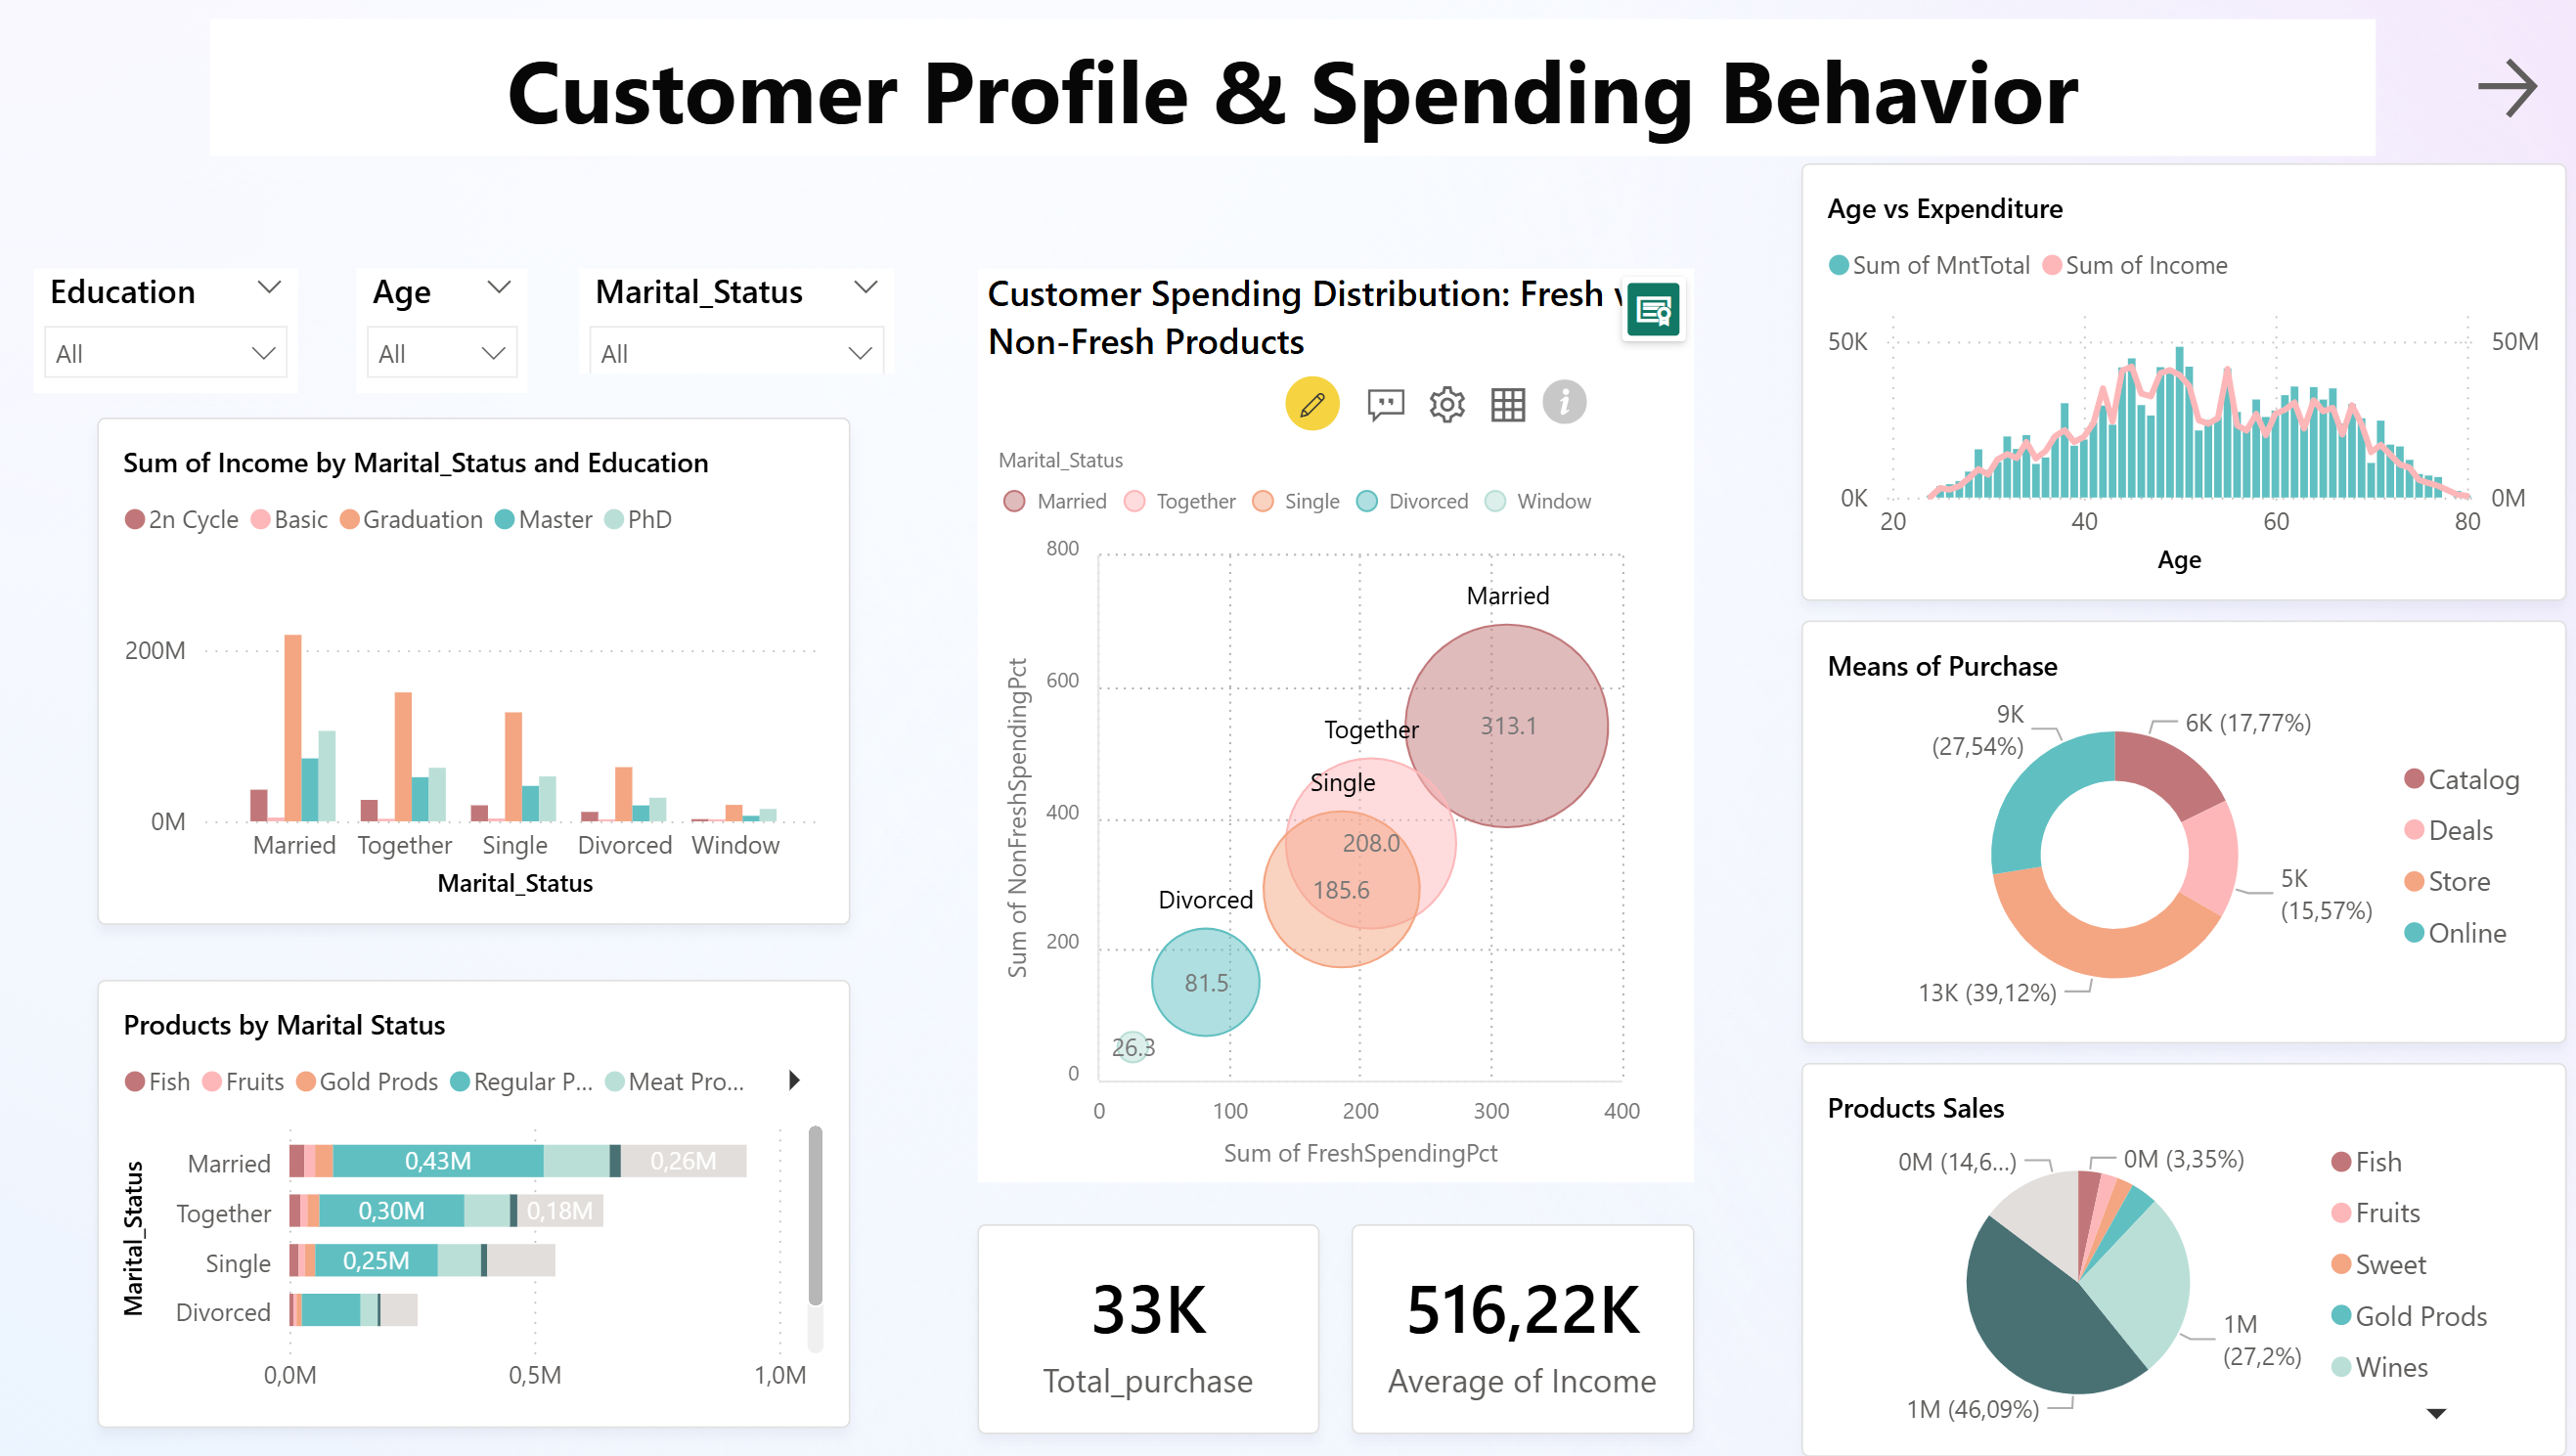

Layout of this report page (visuals, bound fields, positions):
{"tool":"powerbi","page":{"name":"Page 1","canvas":[1280,720],"ordinal":0},"visuals":[{"type":"textbox","box":[105,10.9,1068.9,67.6],"z":0},{"type":"performanceBubbleChartFBAAA829CB604E5CAB4F21729F233294","title":"Customer Spending Distribution: Fresh vs Non-Fresh Products","fields":{"category":["ifood_df.Marital_Status","ifood_df.Education"],"xmeasure":["Sum(ifood_df.FreshSpendingPct)"],"ymeasure":["Sum(ifood_df.NonFreshSpendingPct)"],"zmeasure":["Sum(ifood_df.TotalSpending)"]},"box":[483.8,133.9,353.5,451.2],"z":1000},{"type":"clusteredColumnChart","title":"Sum of Income by Marital_Status and Education","fields":{"Y":["Sum(ifood_df.Income)"],"Category":["ifood_df.Marital_Status"],"Series":["ifood_df.Education"]},"box":[49.5,207.3,371.7,250.3],"z":2000},{"type":"barChart","title":"Products by Marital Status","fields":{"Category":["ifood_df.Marital_Status"],"Y":["Sum(ifood_df.MntFishProducts)","Sum(ifood_df.MntFruits)","Sum(ifood_df.MntGoldProds)","Sum(ifood_df.MntRegularProds)","Sum(ifood_df.MntMeatProducts)","Sum(ifood_df.MntSweetProducts)","Sum(ifood_df.MntWines)"]},"box":[49.5,484.7,371.7,221.3],"z":3000},{"type":"lineStackedColumnComboChart","title":"Age vs Expenditure","fields":{"Category":["ifood_df.Age"],"Y2":["Sum(ifood_df.Income)"],"Y":["Sum(ifood_df.MntTotal)"]},"box":[890.4,82,377.6,216],"z":4000},{"type":"card","fields":{"Values":["Measure.Total_purchase"]},"box":[483.8,605.6,168.9,103.8],"z":5000},{"type":"card","fields":{"Values":["Avg(ifood_df.Income)"]},"box":[668.6,606.1,169,103.7],"z":6000},{"type":"pieChart","title":"Products Sales","fields":{"Y":["Sum(ifood_df.MntFishProducts)","Sum(ifood_df.MntFruits)","Sum(ifood_df.MntSweetProducts)","Sum(ifood_df.MntGoldProds)","Sum(ifood_df.MntWines)","Sum(ifood_df.MntRegularProds)","Sum(ifood_df.MntMeatProducts)"]},"box":[890.4,526,377.6,194.2],"z":7000},{"type":"donutChart","title":"Means of Purchase ","fields":{"Y":["Sum(ifood_df.NumCatalogPurchases)","Sum(ifood_df.NumDealsPurchases)","Sum(ifood_df.NumStorePurchases)","Sum(ifood_df.NumWebPurchases)"]},"box":[890.4,307.6,377.6,208.7],"z":8000},{"type":"slicer","fields":{"Values":["ifood_df.Education"]},"box":[18.1,133.9,130.3,61.5],"z":9000},{"type":"slicer","fields":{"Values":["ifood_df.Marital_Status"]},"box":[287.1,133.9,155.6,51.9],"z":10000},{"type":"slicer","fields":{"Values":["ifood_df.Age"]},"box":[177.3,133.9,84.5,61.5],"z":11000},{"type":"actionButton","box":[1218.7,25.2,48.6,39.2],"z":12000}]}

Visuals, with their boxes in screenshot pixels (x1, y1, x2, y2), scaled from the page's 1280x720 canvas onto the 2576x1456 screenshot:
textbox: l=211, t=22, r=2363, b=158
"Customer Spending Distribution: Fresh vs Non-Fresh Products" performanceBubbleChartFBAAA829CB604E5CAB4F21729F233294: l=974, t=271, r=1685, b=1183
"Sum of Income by Marital_Status and Education" clusteredColumnChart: l=100, t=419, r=848, b=925
"Products by Marital Status" barChart: l=100, t=980, r=848, b=1428
"Age vs Expenditure" lineStackedColumnComboChart: l=1792, t=166, r=2552, b=602
card - Measure.Total_purchase: l=974, t=1224, r=1313, b=1434
card - Avg(ifood_df.Income): l=1346, t=1225, r=1686, b=1435
"Products Sales" pieChart: l=1792, t=1064, r=2552, b=1455
"Means of Purchase " donutChart: l=1792, t=622, r=2552, b=1044
slicer - ifood_df.Education: l=36, t=271, r=298, b=395
slicer - ifood_df.Marital_Status: l=578, t=271, r=891, b=375
slicer - ifood_df.Age: l=357, t=271, r=527, b=395
actionButton: l=2453, t=51, r=2551, b=130
